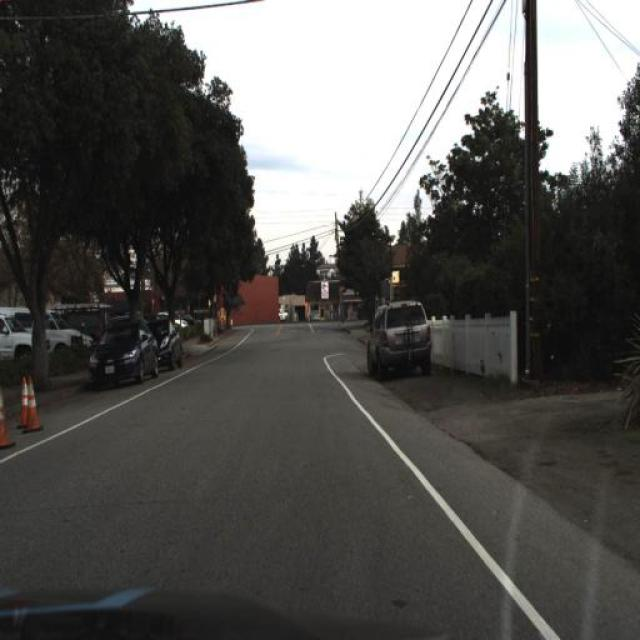car: (363, 296, 432, 384), (362, 298, 432, 382), (82, 312, 156, 388), (86, 314, 160, 390), (0, 312, 52, 369), (27, 313, 84, 365), (143, 316, 183, 372), (155, 314, 189, 372), (0, 337, 25, 387)
